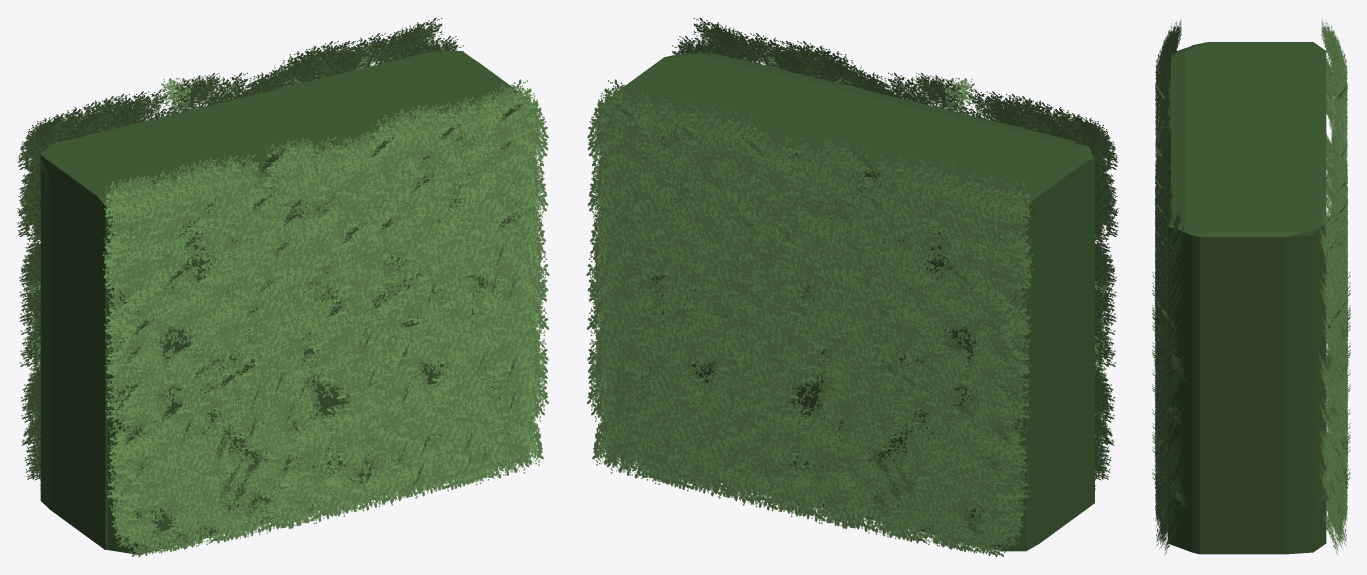
File: Arbusto_meio.gltf
The picture shows the model from 3 angles, left to right: view 1: azimuth 30°, elevation 25°; view 2: azimuth 150°, elevation 25°; view 3: azimuth 270°, elevation 25°; orthographic projection. The views are drawn at different scales.
Parts seen in each view (by area): view 1: Meio; view 2: Meio; view 3: Meio.
Part boxes in pixels (x1=…): Meio: x1=16, y1=17, x2=549, y2=557; Meio: x1=586, y1=17, x2=1119, y2=557; Meio: x1=1152, y1=19, x2=1350, y2=555.
Bounding box in the file's own units: 4.02 × 3.32 × 1.71.
Materials: 2 (1 with a texture image).
